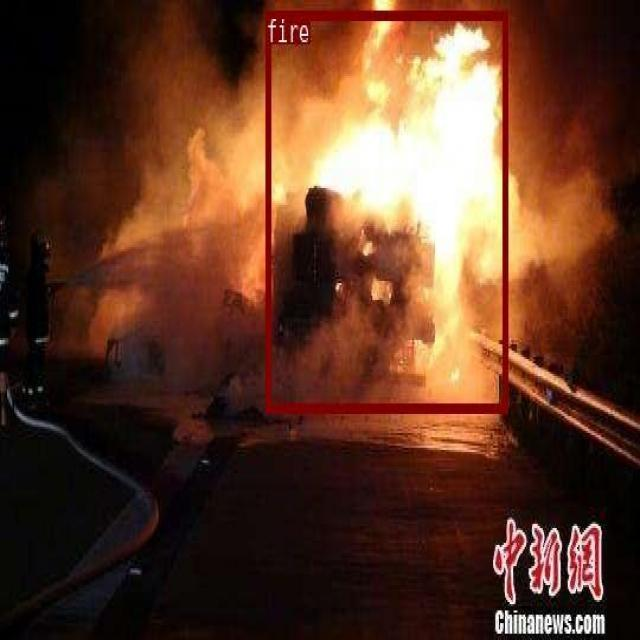fire: (265, 10, 507, 411)
